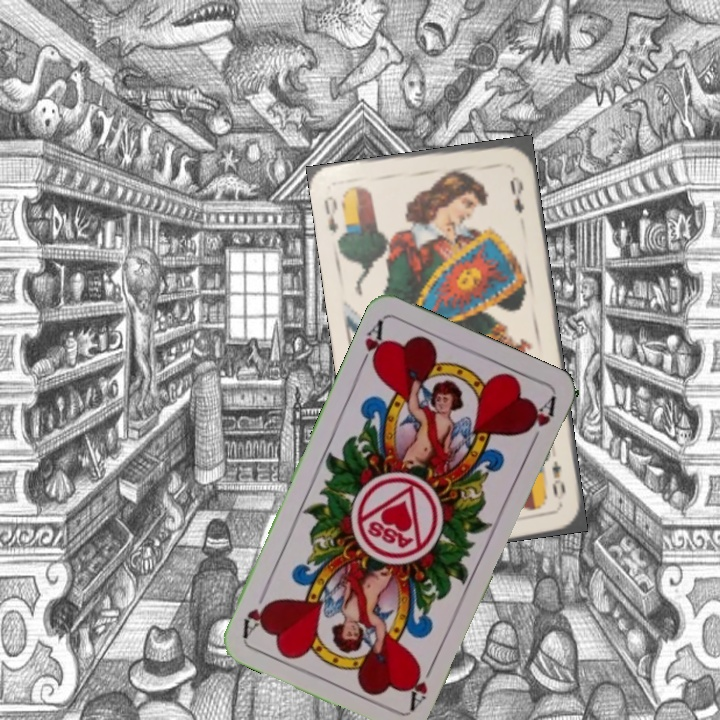EO: (319, 192, 341, 235), (547, 456, 568, 500)
HA: (355, 315, 389, 372), (406, 657, 438, 713)
